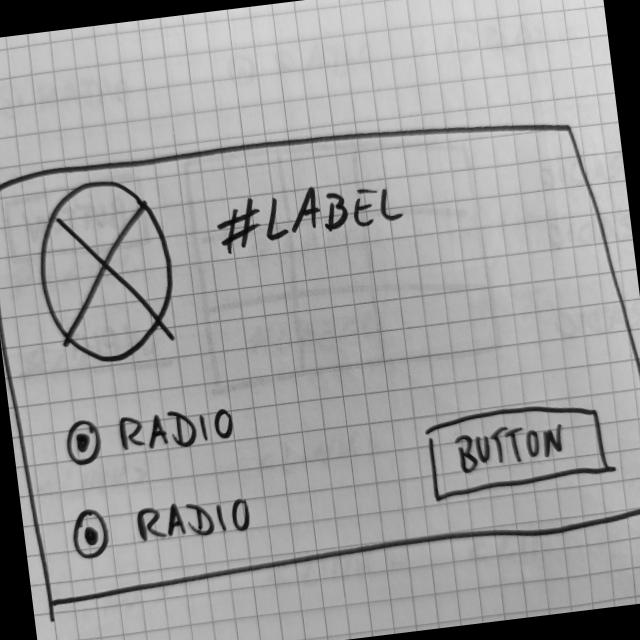button: (420, 393, 618, 509)
container: (1, 94, 640, 612)
image: (29, 170, 190, 373)
label: (206, 173, 409, 259)
radio: (67, 487, 260, 565), (62, 396, 240, 472)
